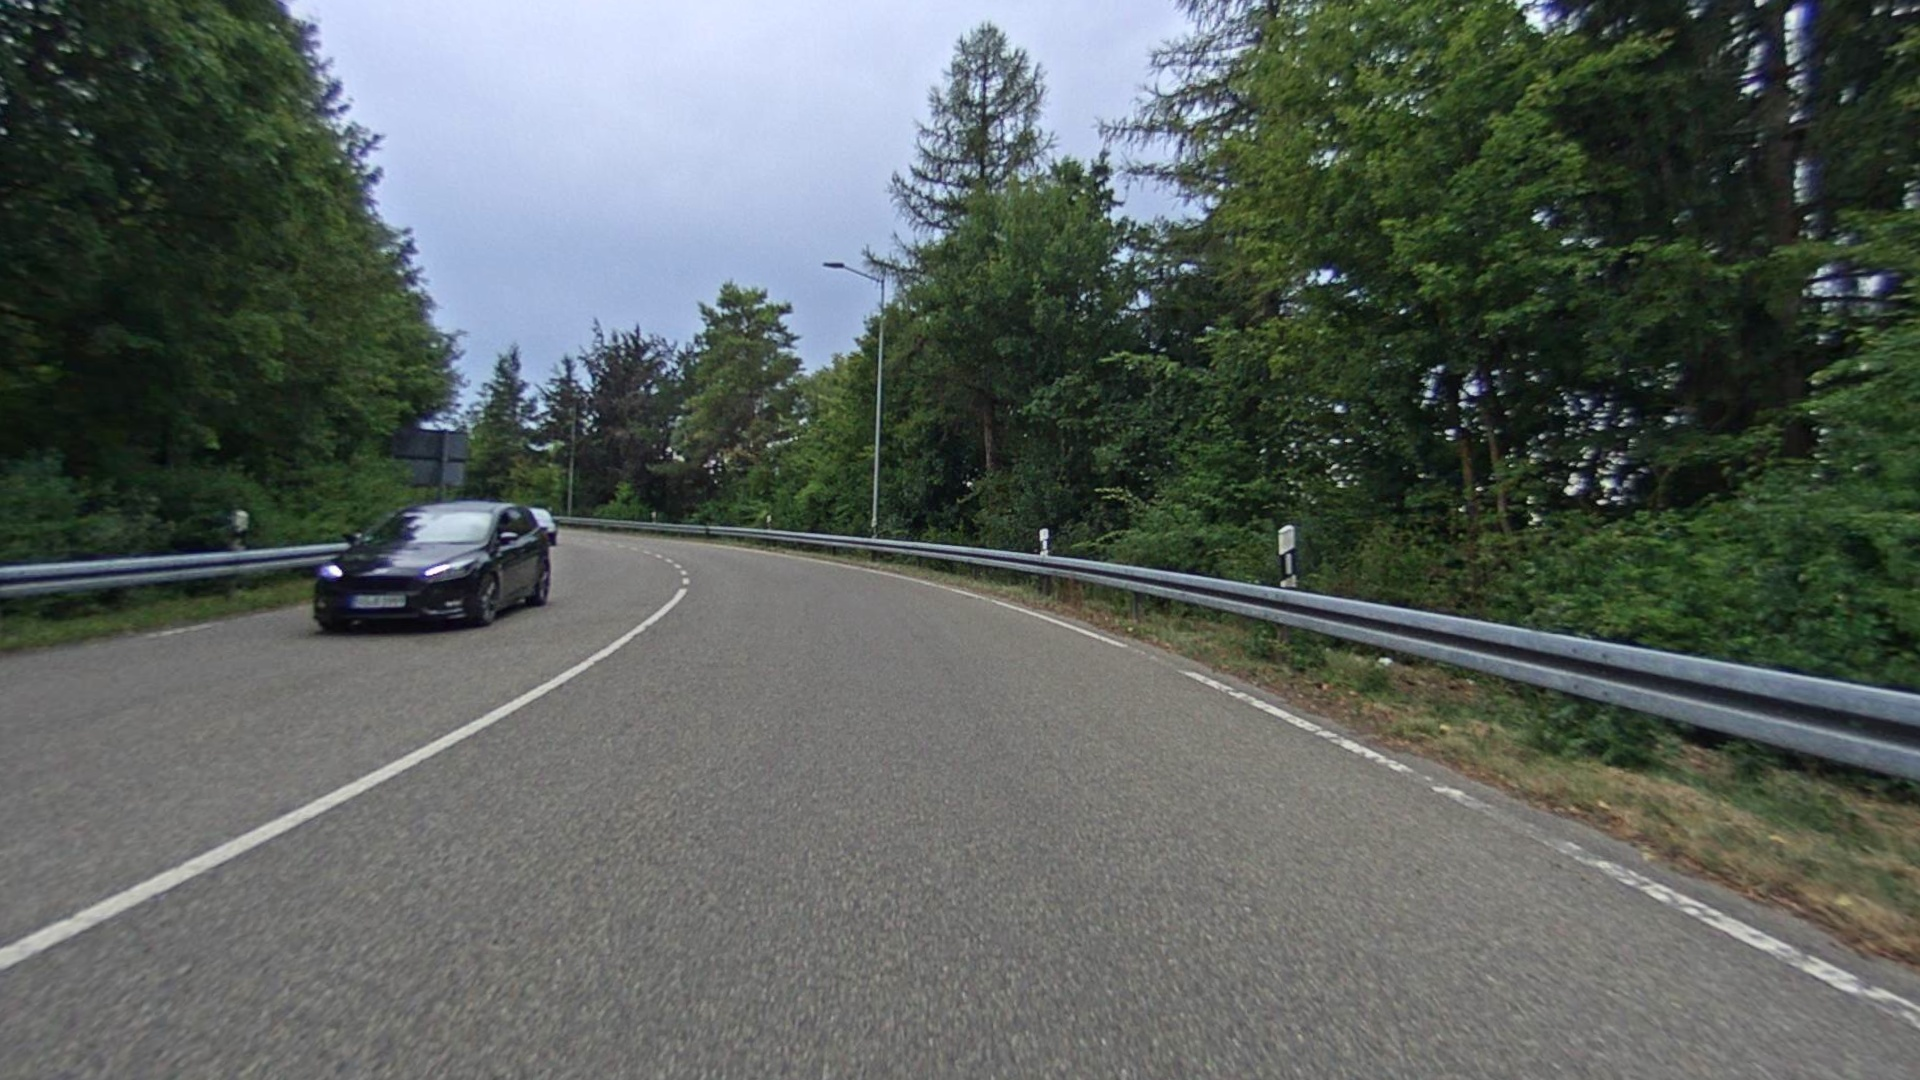car: (313, 498, 553, 637)
